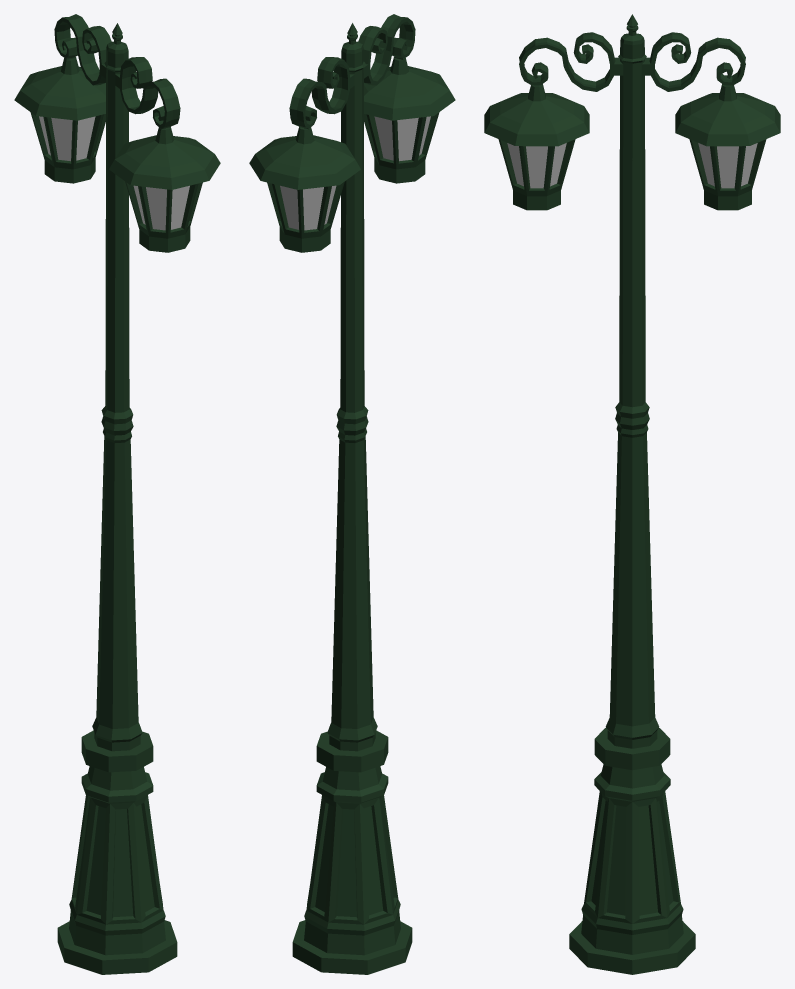
File: Streetlight_Double.glb
The picture shows the model from 3 angles, left to right: view 1: azimuth 30°, elevation 25°; view 2: azimuth 150°, elevation 25°; view 3: azimuth 270°, elevation 25°; orthographic projection.
Visible parts, largest first — view 1: Streetlight_Double; view 2: Streetlight_Double; view 3: Streetlight_Double.
Boxes of the visible parts, x1,y1,x2,y2 form: Streetlight_Double: [14, 14, 220, 974]; Streetlight_Double: [249, 14, 455, 974]; Streetlight_Double: [484, 14, 780, 974].
Size of the model in its own units: 0.1317 by 1.1 by 0.3157.
